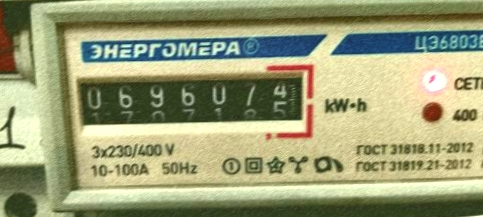0: (84, 83, 102, 109), (210, 79, 226, 105)
4: (272, 77, 286, 98)
5: (272, 99, 287, 118)
6: (115, 82, 133, 107), (179, 79, 195, 106)
7: (241, 79, 257, 106)
9: (147, 82, 164, 108)
screen: (70, 61, 317, 141)
